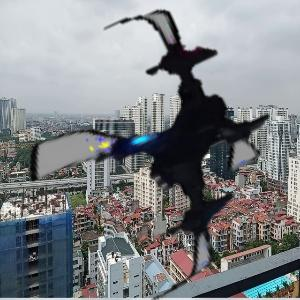drone: (7, 11, 295, 299)
